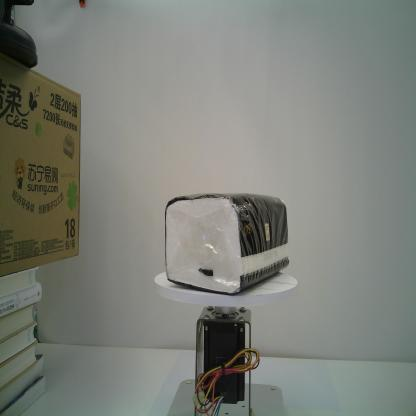Tissue: (162, 188, 291, 297)
